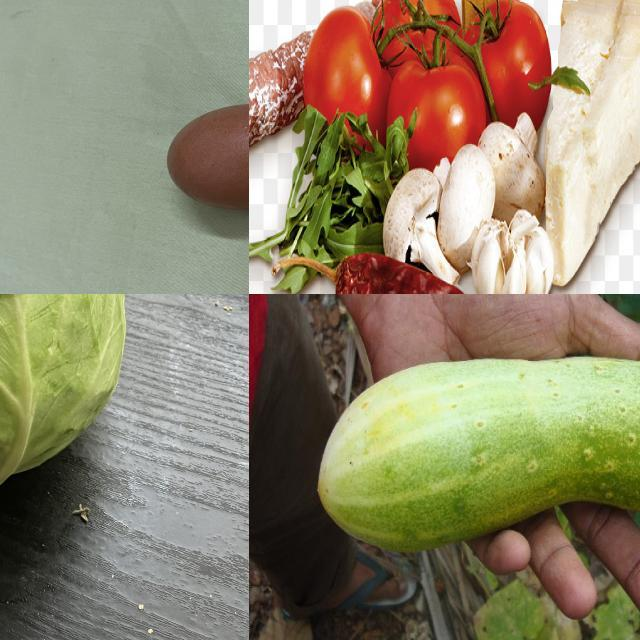cabbage: (1, 295, 132, 508)
cucumber: (310, 359, 640, 547)
egg: (158, 94, 250, 217)
garlic: (470, 219, 555, 295)
tomato: (390, 54, 489, 160), (309, 11, 382, 141), (466, 1, 547, 115), (379, 1, 455, 60)
